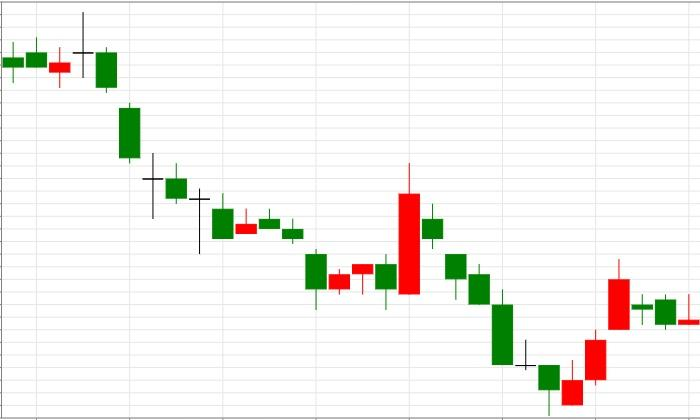three_black_crows_fall: (375, 163, 490, 310)
three_white_soldiers_rise: (398, 163, 630, 416)
